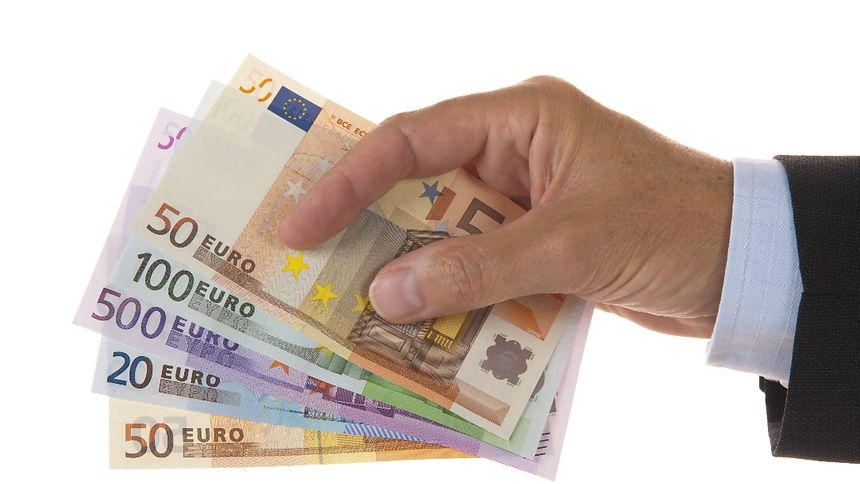billete: (69, 50, 596, 480)
